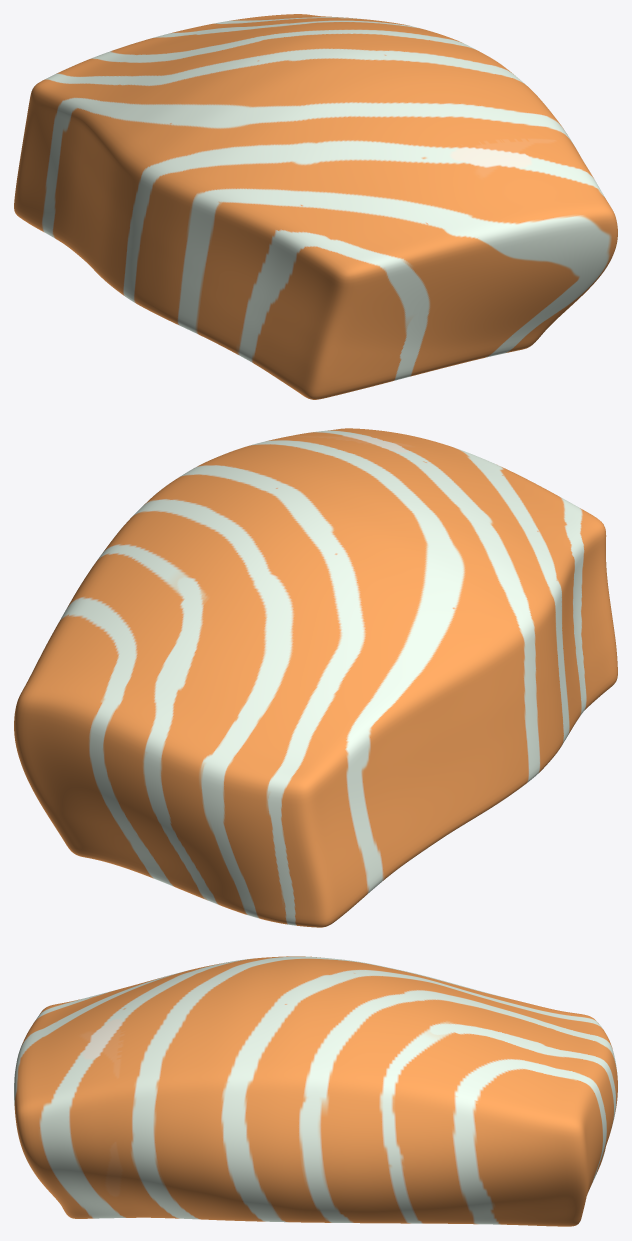
The picture shows the model from 3 angles, top to bottom: view 1: azimuth 30°, elevation 25°; view 2: azimuth 150°, elevation 25°; view 3: azimuth 270°, elevation 25°; orthographic projection. The views are drawn at different scales.
Parts seen in each view (by area): view 1: Cube; view 2: Cube; view 3: Cube.
Boxes of the visible parts, x1=… form: Cube: x1=14, y1=14, x2=617, y2=399; Cube: x1=14, y1=428, x2=617, y2=927; Cube: x1=14, y1=956, x2=617, y2=1226.
Bounding box in the file's own units: 363 × 206 × 523.
Materials: 1 (1 with a texture image).
